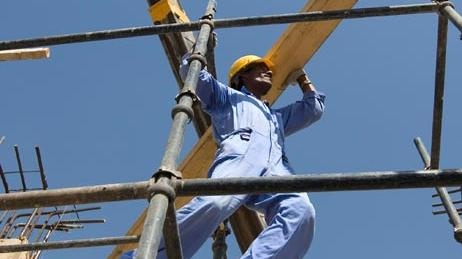yellow: (228, 54, 275, 95)
